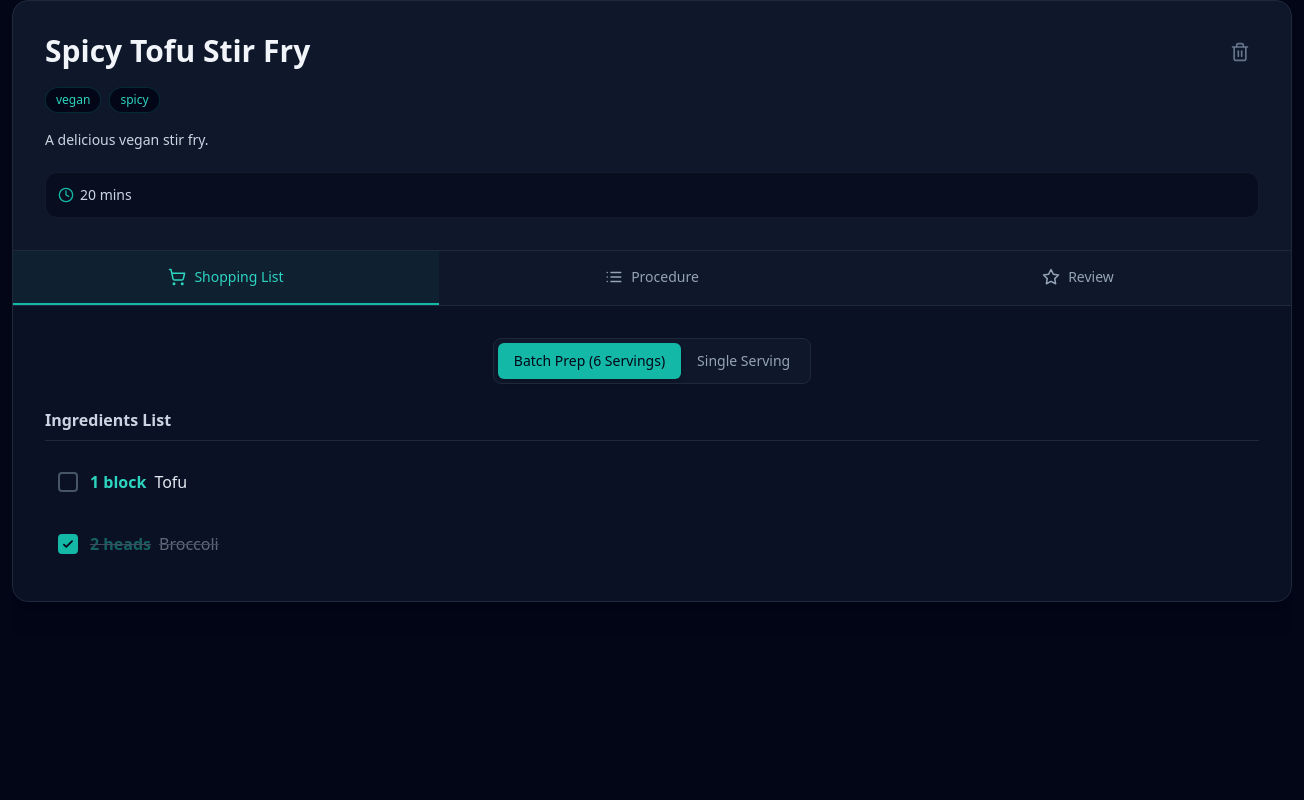
Test case: RecipeDetail › switches between tabs correctly
Expected: the text "Tofu" is shown, [154,471,187,493]
// Click Procedure tab
Click the button "Procedure": (652, 278) [439,251,865,305]
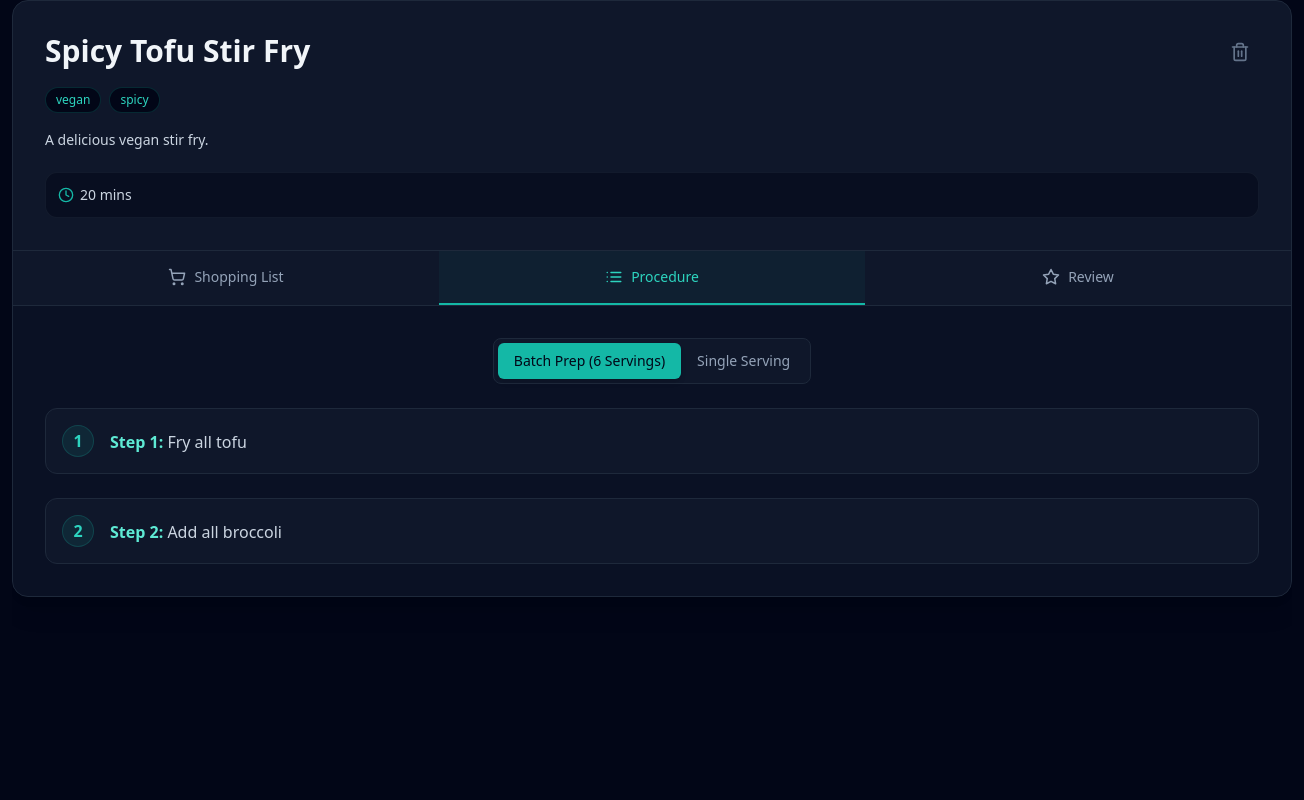
Now the text "Step 1:" is shown, box [110,431,167,453]
Now the text "Fry all tofu" is shown, box [167,431,247,453]
// Click Review tab
Click the button "Review": (1078, 278) [865,251,1291,305]
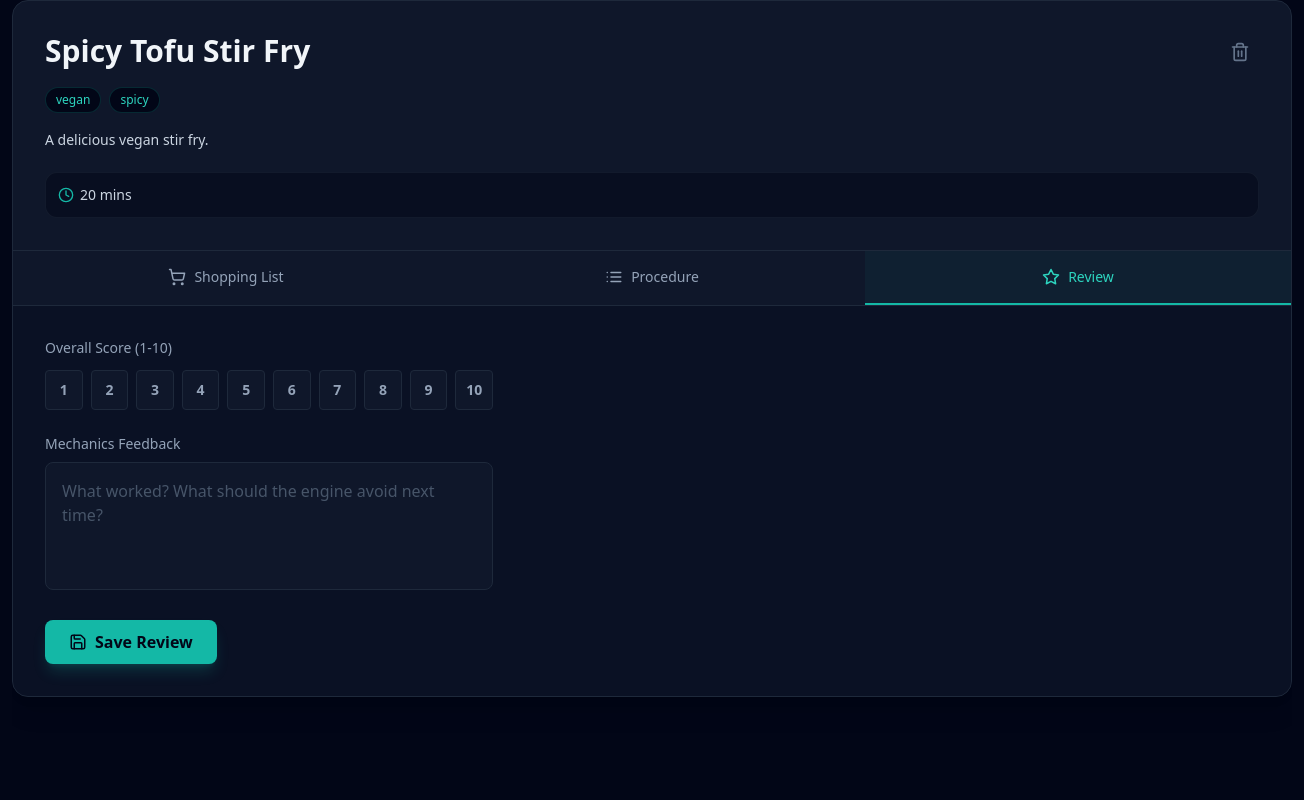
Now the text "Overall Score (1-10)" is shown, box [45,338,172,357]
